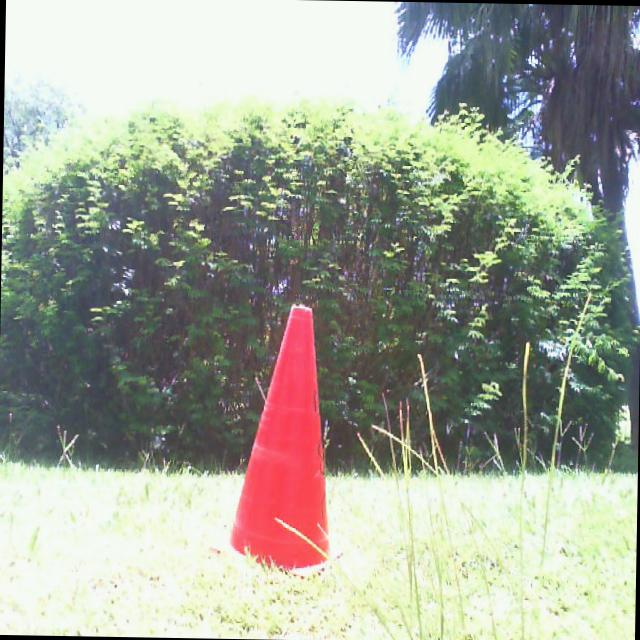cone: (208, 302, 346, 582)
